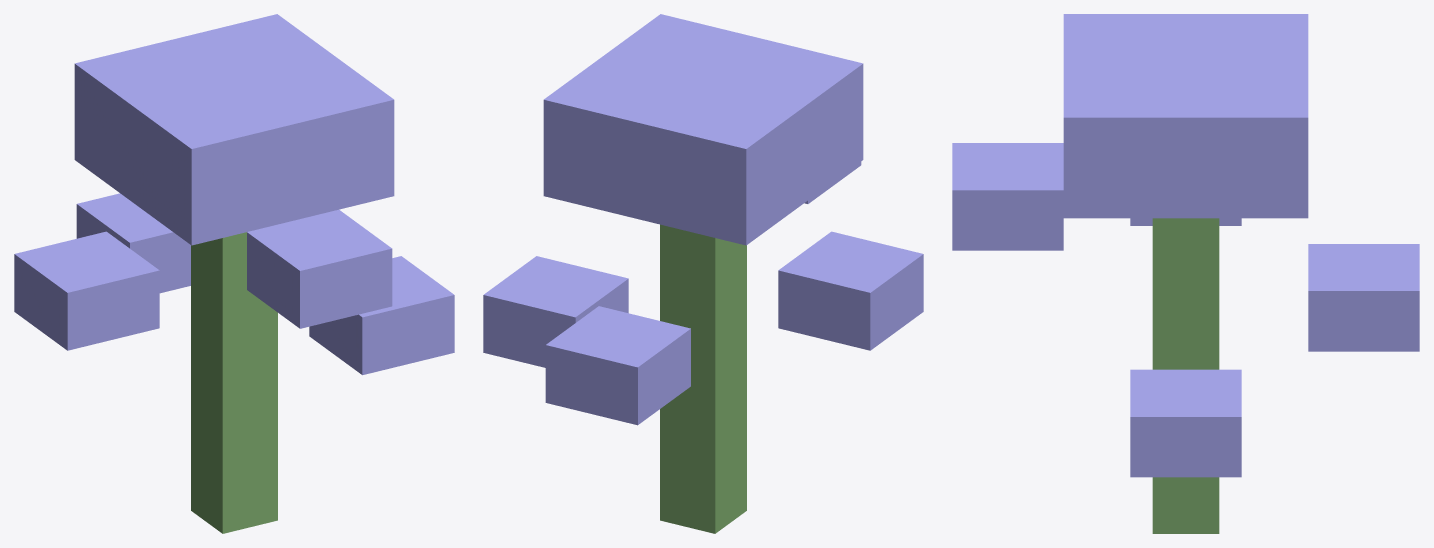
File: Prop_DS_Herb_BufferBloom_S2_V2.glb
3 renders of one model, left to right at view 1: azimuth 30°, elevation 25°; view 2: azimuth 150°, elevation 25°; view 3: azimuth 270°, elevation 25°, orthographic. The views are drawn at different scales.
Visible parts, largest first — view 1: Cube.005, Cube, Cube.003, Cube.004, Cube.001, Cube.002; view 2: Cube.005, Cube, Cube.002, Cube.003, Cube.001; view 3: Cube.005, Cube, Cube.001, Cube.002, Cube.004.
Part boxes in pixels (<box>): Cube.005: <box>74,14,394,245</box>; Cube: <box>191,232,277,533</box>; Cube.003: <box>14,231,159,350</box>; Cube.004: <box>247,209,392,328</box>; Cube.001: <box>309,256,454,375</box>; Cube.002: <box>76,193,190,293</box>; Cube.005: <box>543,14,863,245</box>; Cube: <box>660,224,746,533</box>; Cube.002: <box>545,306,690,425</box>; Cube.003: <box>778,231,923,350</box>; Cube.001: <box>483,256,628,367</box>; Cube.005: <box>1063,14,1308,218</box>; Cube: <box>1152,218,1219,533</box>; Cube.001: <box>1130,369,1241,477</box>; Cube.002: <box>1308,244,1419,351</box>; Cube.004: <box>952,143,1063,250</box>.
Bounding box in the file's own units: 0.42 × 0.45 × 0.42.
